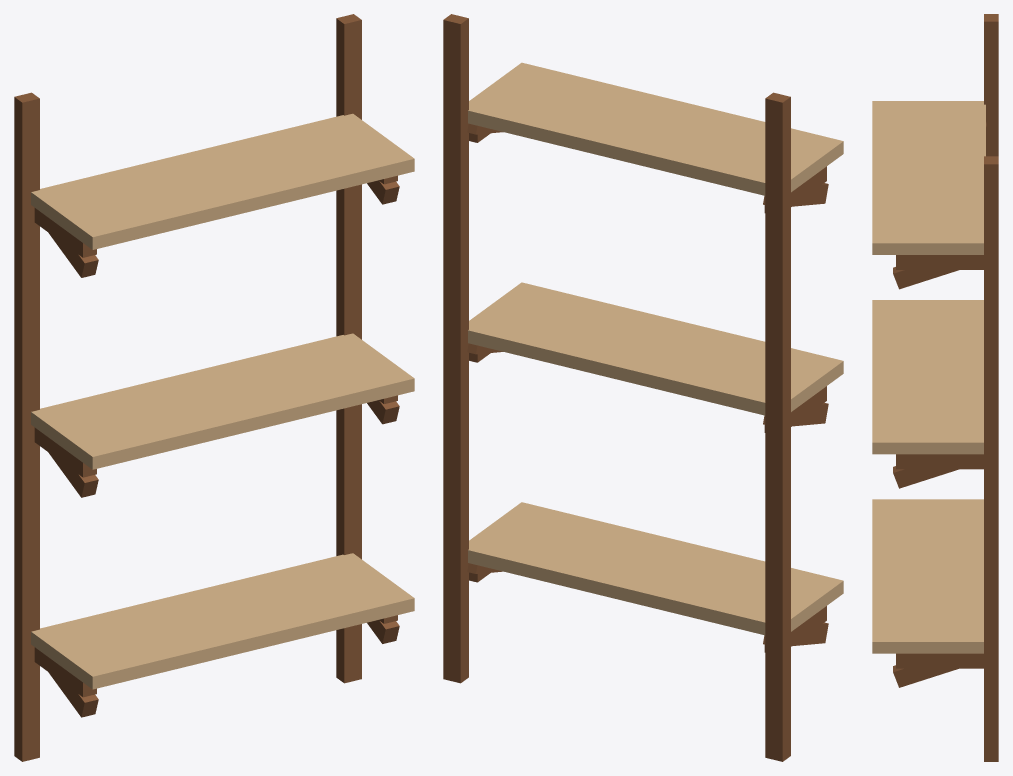
The picture shows the model from 3 angles, left to right: view 1: azimuth 30°, elevation 25°; view 2: azimuth 150°, elevation 25°; view 3: azimuth 270°, elevation 25°; orthographic projection. The views are drawn at different scales.
Visible parts, largest first — view 1: wall-shelf-board-lower, wall-shelf-board-middle, wall-shelf-board-top, side-bracket-wall-rail-left, side-bracket-wall-rail-right, side-bracket-brace-lower-left, side-bracket-brace-top-left, side-bracket-brace-middle-left, side-bracket-arm-top-left, side-bracket-arm-middle-left; view 2: wall-shelf-board-top, wall-shelf-board-lower, wall-shelf-board-middle, side-bracket-wall-rail-left, side-bracket-wall-rail-right, side-bracket-brace-lower-left, side-bracket-brace-top-left; view 3: wall-shelf-board-lower, wall-shelf-board-middle, wall-shelf-board-top, side-bracket-wall-rail-right, side-bracket-wall-rail-left, side-bracket-arm-lower-right, side-bracket-arm-middle-right, side-bracket-arm-top-right, side-bracket-brace-middle-right, side-bracket-brace-top-right, side-bracket-brace-lower-right.
Part boxes in pixels (bbox=[...]): wall-shelf-board-lower: bbox=[31, 553, 414, 689]; wall-shelf-board-middle: bbox=[31, 333, 414, 469]; wall-shelf-board-top: bbox=[31, 113, 414, 249]; side-bracket-wall-rail-left: bbox=[14, 92, 39, 761]; side-bracket-wall-rail-right: bbox=[336, 14, 361, 683]; side-bracket-brace-lower-left: bbox=[34, 647, 98, 717]; side-bracket-brace-top-left: bbox=[35, 208, 98, 277]; side-bracket-brace-middle-left: bbox=[35, 428, 98, 497]; side-bracket-arm-top-left: bbox=[34, 208, 96, 257]; side-bracket-arm-middle-left: bbox=[34, 428, 96, 477]; wall-shelf-board-top: bbox=[468, 62, 843, 195]; wall-shelf-board-lower: bbox=[468, 502, 843, 635]; wall-shelf-board-middle: bbox=[468, 282, 843, 415]; side-bracket-wall-rail-left: bbox=[765, 92, 790, 761]; side-bracket-wall-rail-right: bbox=[443, 14, 468, 683]; side-bracket-brace-lower-left: bbox=[763, 622, 828, 646]; side-bracket-brace-top-left: bbox=[763, 183, 828, 206]; wall-shelf-board-lower: bbox=[872, 499, 983, 653]; wall-shelf-board-middle: bbox=[872, 300, 983, 454]; wall-shelf-board-top: bbox=[872, 101, 985, 254]; side-bracket-wall-rail-right: bbox=[984, 156, 998, 761]; side-bracket-wall-rail-left: bbox=[984, 14, 998, 156]; side-bracket-arm-lower-right: bbox=[896, 653, 983, 668]; side-bracket-arm-middle-right: bbox=[896, 454, 983, 469]; side-bracket-arm-top-right: bbox=[896, 255, 983, 269]; side-bracket-brace-middle-right: bbox=[893, 454, 983, 488]; side-bracket-brace-top-right: bbox=[893, 255, 983, 289]; side-bracket-brace-lower-right: bbox=[893, 661, 958, 687].
Bounding box in the file's own units: 0.97 × 1.8 × 0.345.
